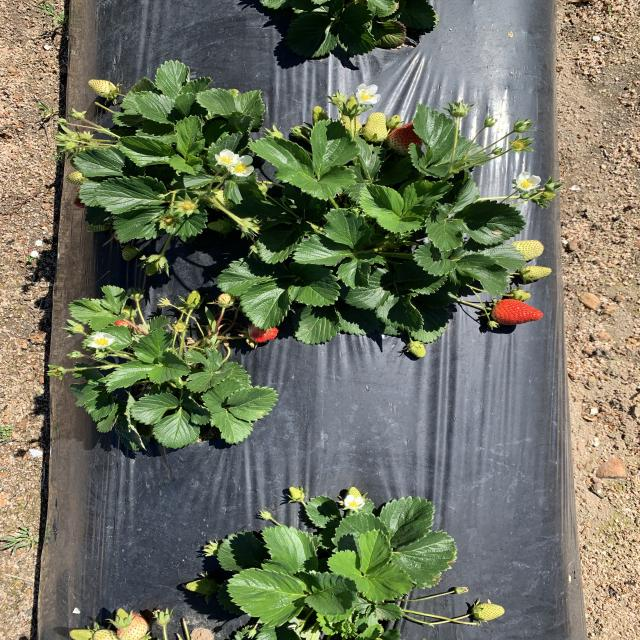unripe: (385, 115, 435, 152), (490, 298, 543, 325), (244, 323, 280, 344)
